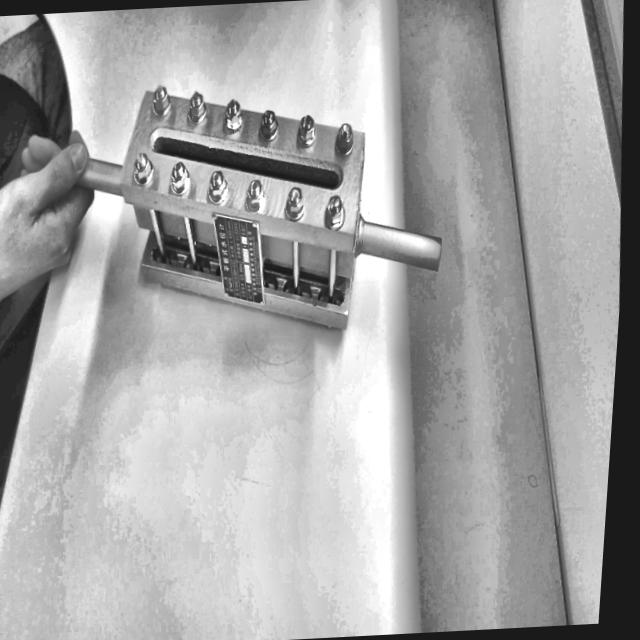ShuiWeiQi_12: (79, 44, 468, 374)
